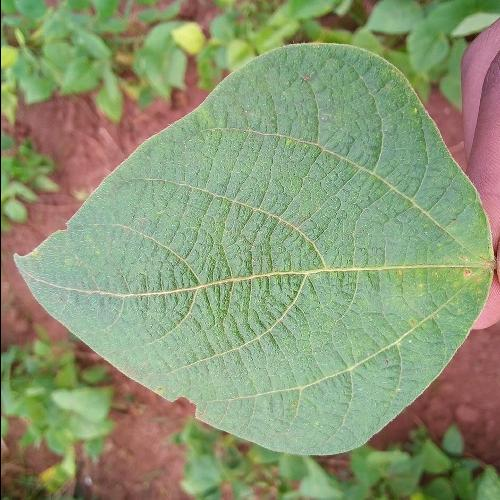sehat: (161, 189, 342, 381)
